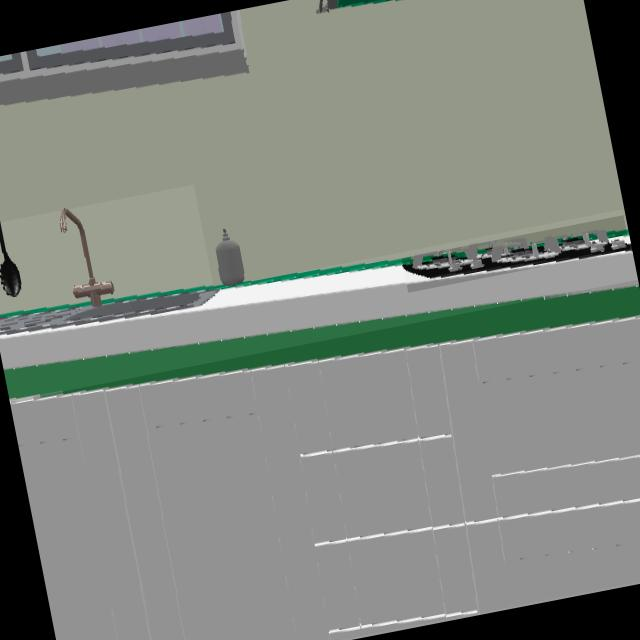cabinet: (10, 318, 640, 640)
countertop: (0, 251, 640, 401)
sink: (0, 210, 215, 336)
stove: (404, 231, 631, 278)
